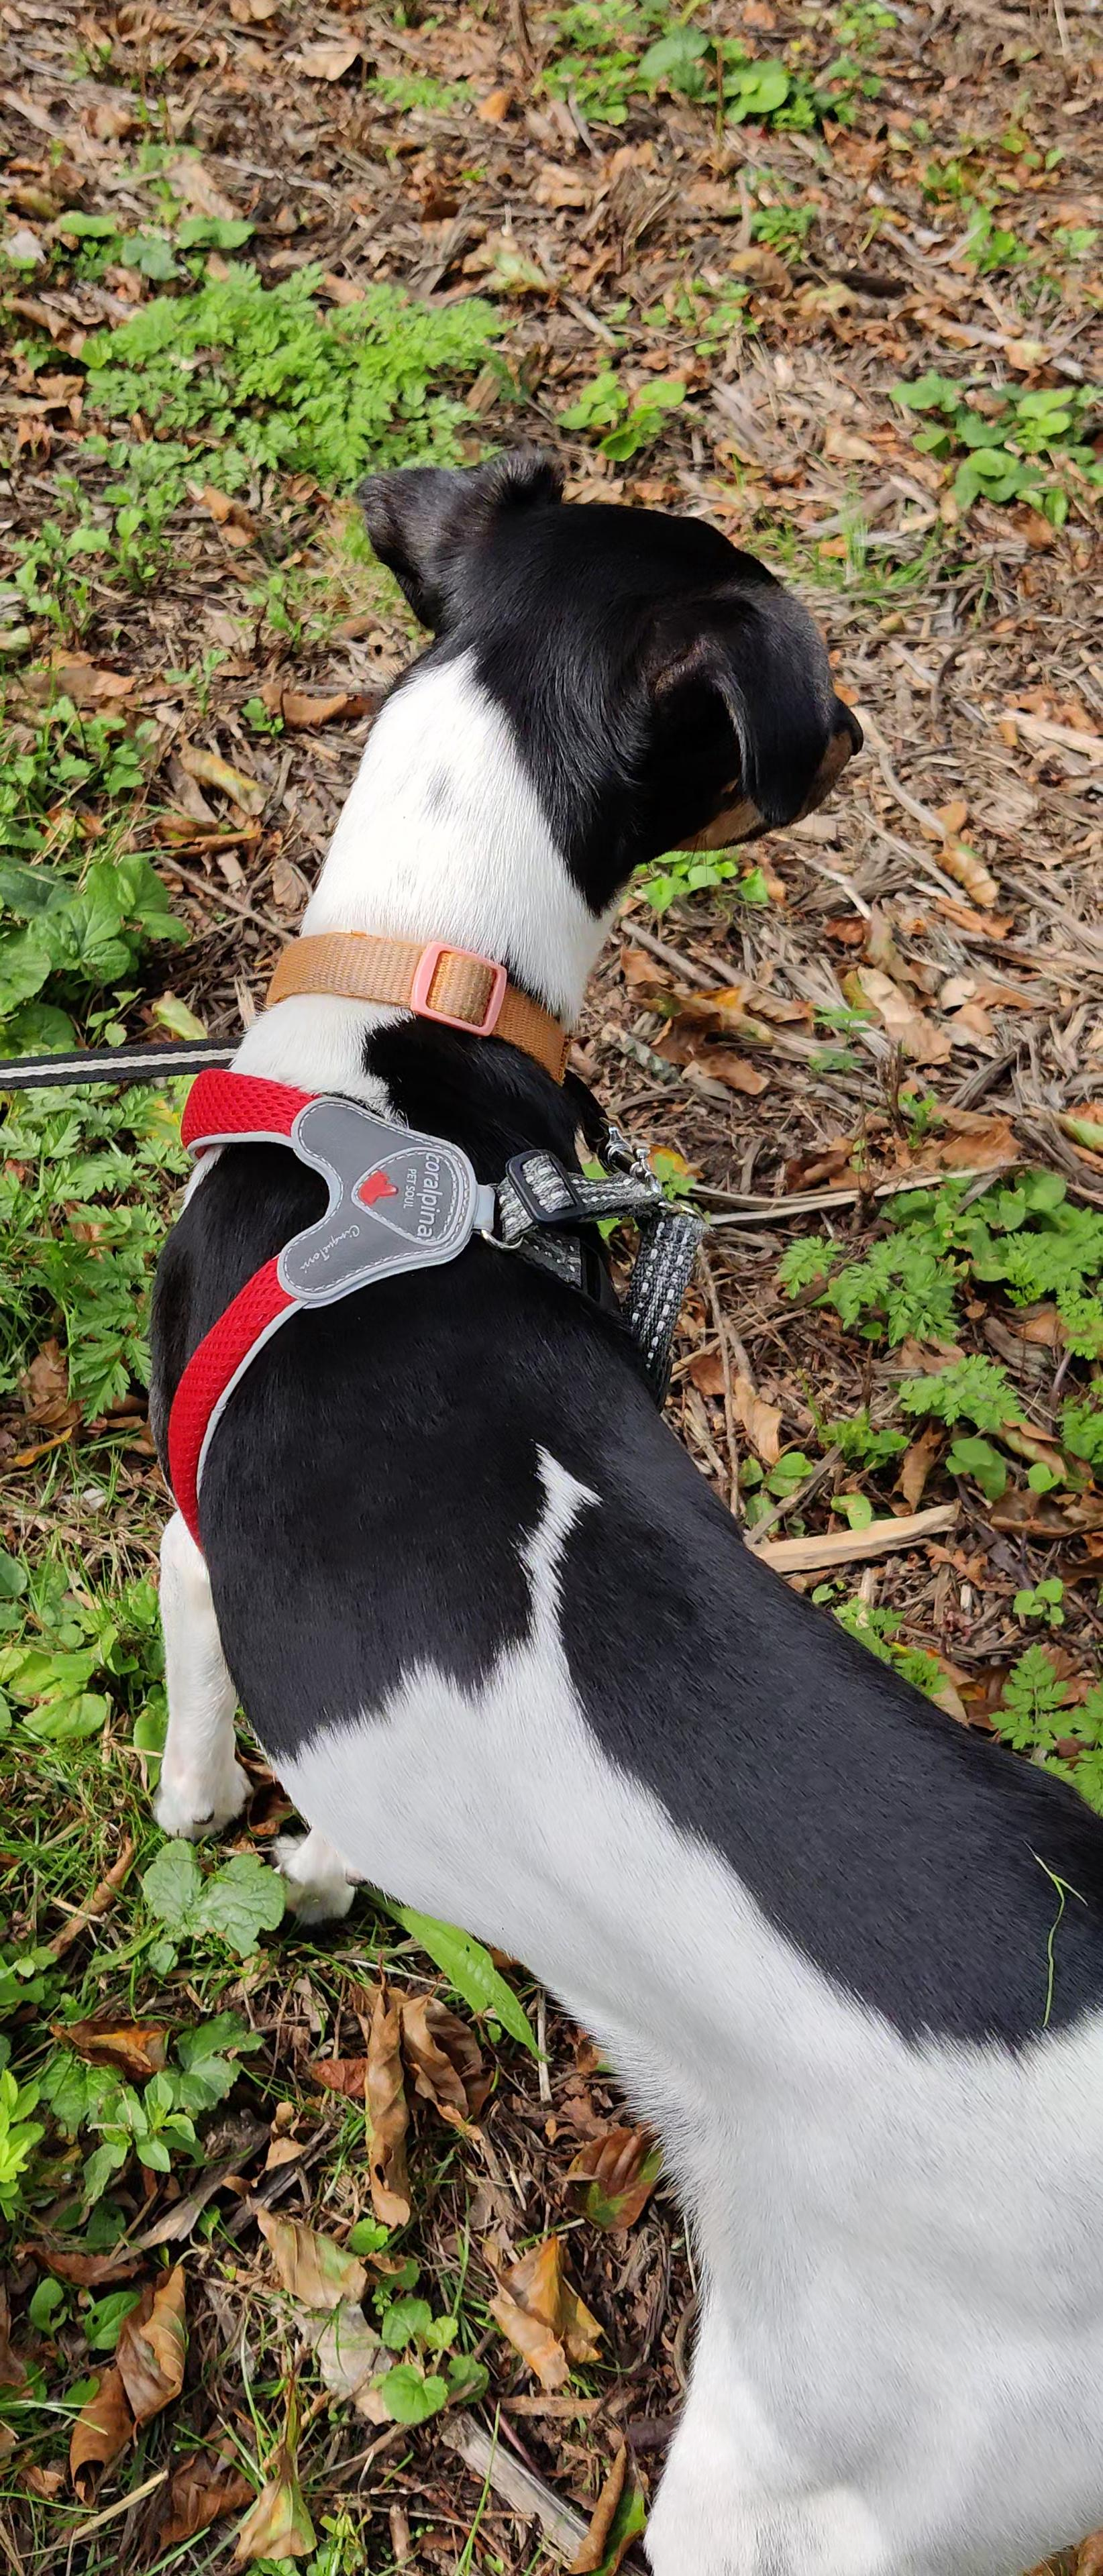Dog: (66, 381, 1103, 2576)
